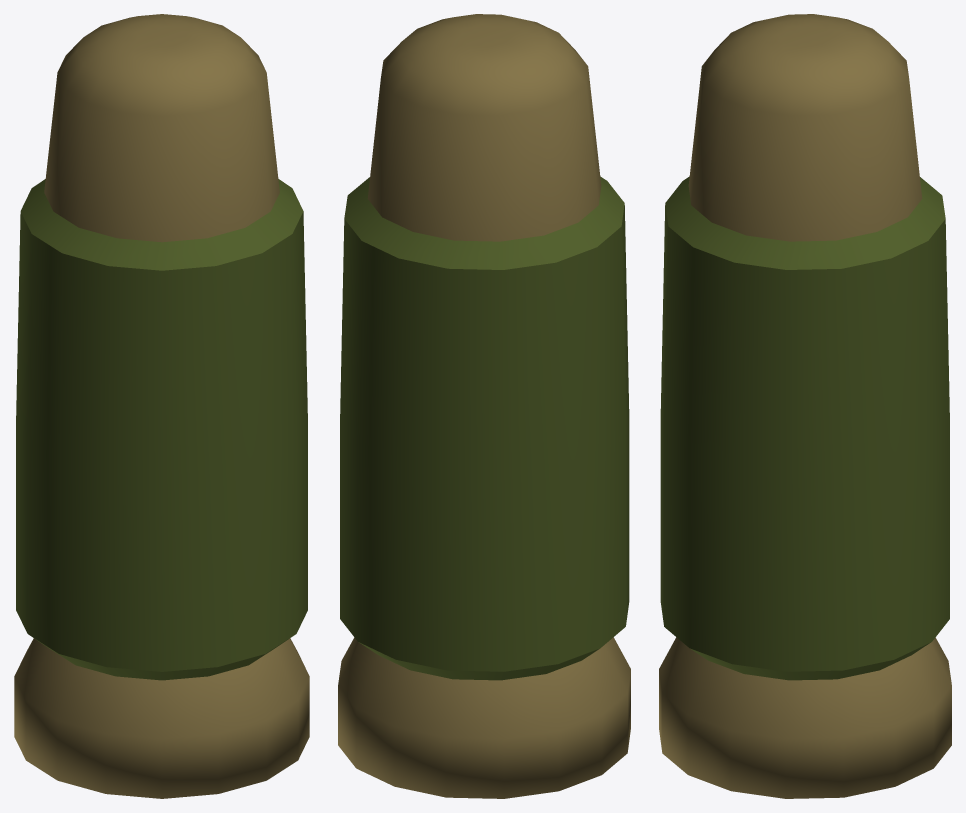
File: bullet-2.fbx
3 views of the same model, side by side, from view 1: azimuth 30°, elevation 25°; view 2: azimuth 150°, elevation 25°; view 3: azimuth 270°, elevation 25° (orthographic).
Parts seen in each view (by area): view 1: bullet-2; view 2: bullet-2; view 3: bullet-2.
Part boxes in pixels (bbox=[...]): bullet-2: bbox=[14, 14, 309, 798]; bullet-2: bbox=[338, 14, 630, 798]; bullet-2: bbox=[659, 14, 951, 798].
Bounding box in the file's own units: 0.3288 × 0.8725 × 0.329.
